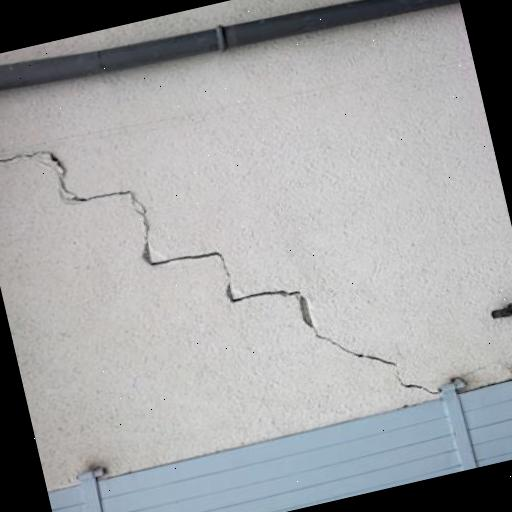spalling: (0, 142, 402, 377)
